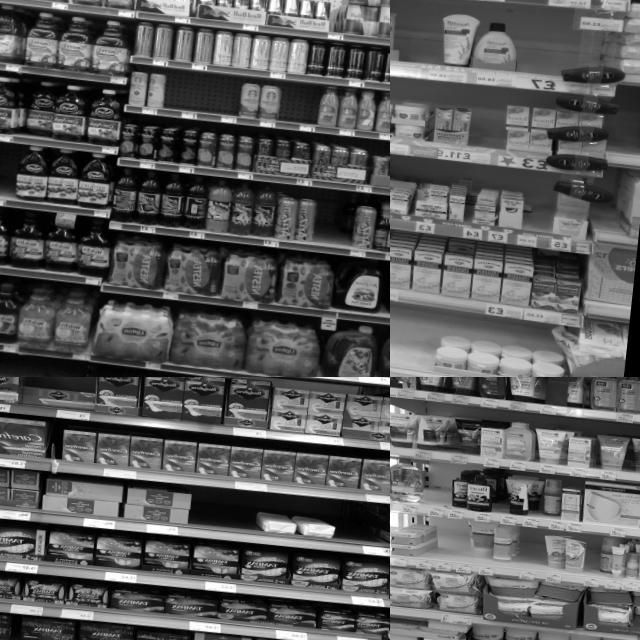empty_space: (514, 11, 566, 91), (390, 295, 438, 377), (190, 485, 256, 543), (395, 1, 442, 80), (467, 90, 508, 165), (334, 500, 381, 555), (313, 189, 350, 254), (612, 90, 640, 168), (280, 84, 320, 132), (203, 75, 241, 124), (421, 464, 454, 517), (527, 191, 557, 249), (433, 518, 465, 572), (515, 528, 545, 580), (0, 142, 17, 206), (582, 535, 601, 586), (542, 377, 567, 415)
